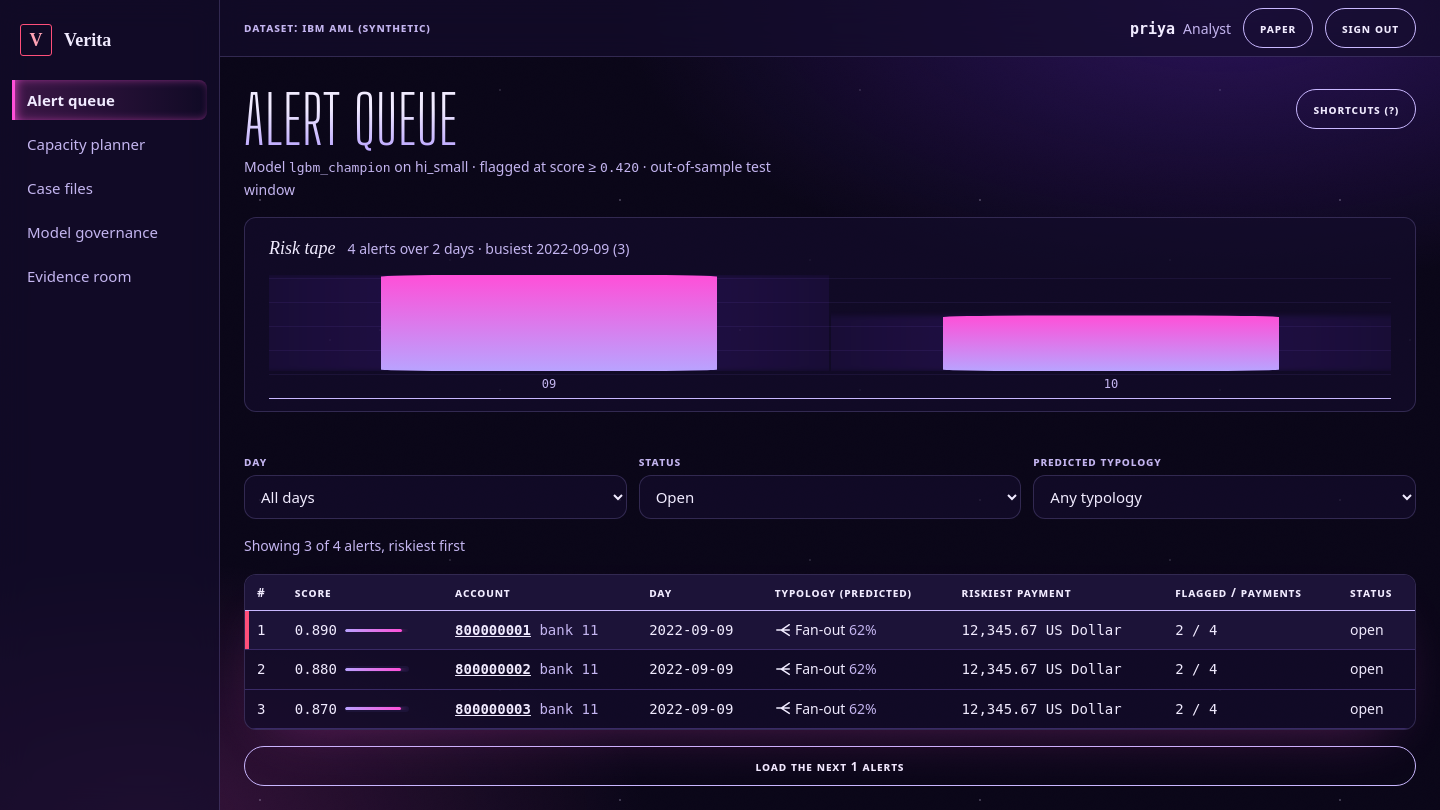
Scenario: lists alerts riskiest first and pages with a cursor
The width and height of the screenshot is (1440, 810).
Expected: the text "Showing 3 of 4 alerts, riskiest first" is shown, [244,536,465,555]
Expected: the text "0.890" is shown, [295,619,337,641]
Click the button "Load the next 1 alerts" at coordinates (830, 766), box [244,746,1416,786]
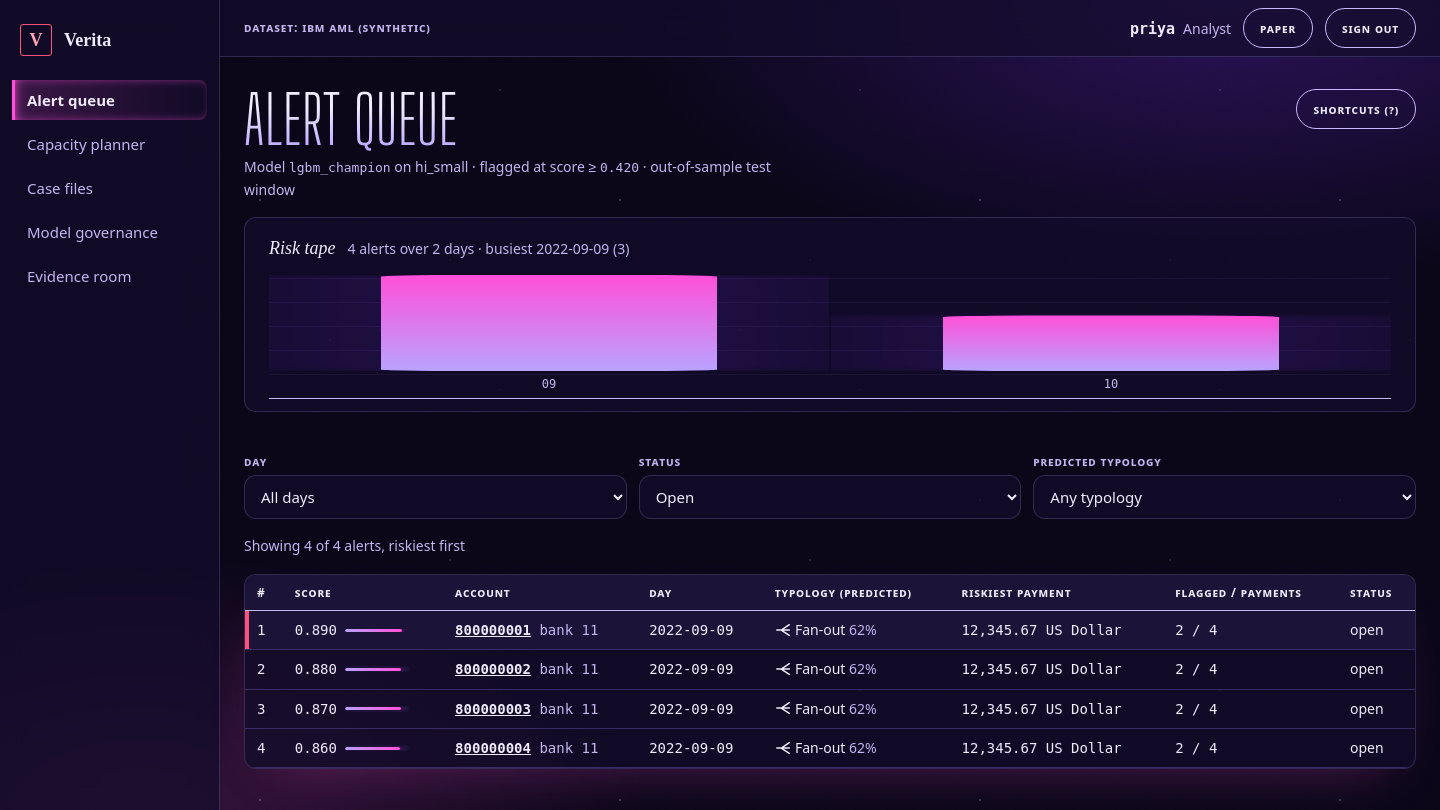
Result: the text "Showing 4 of 4 alerts, riskiest first" is shown at [244,536,465,555]
Result: the button "Load the next" is gone
